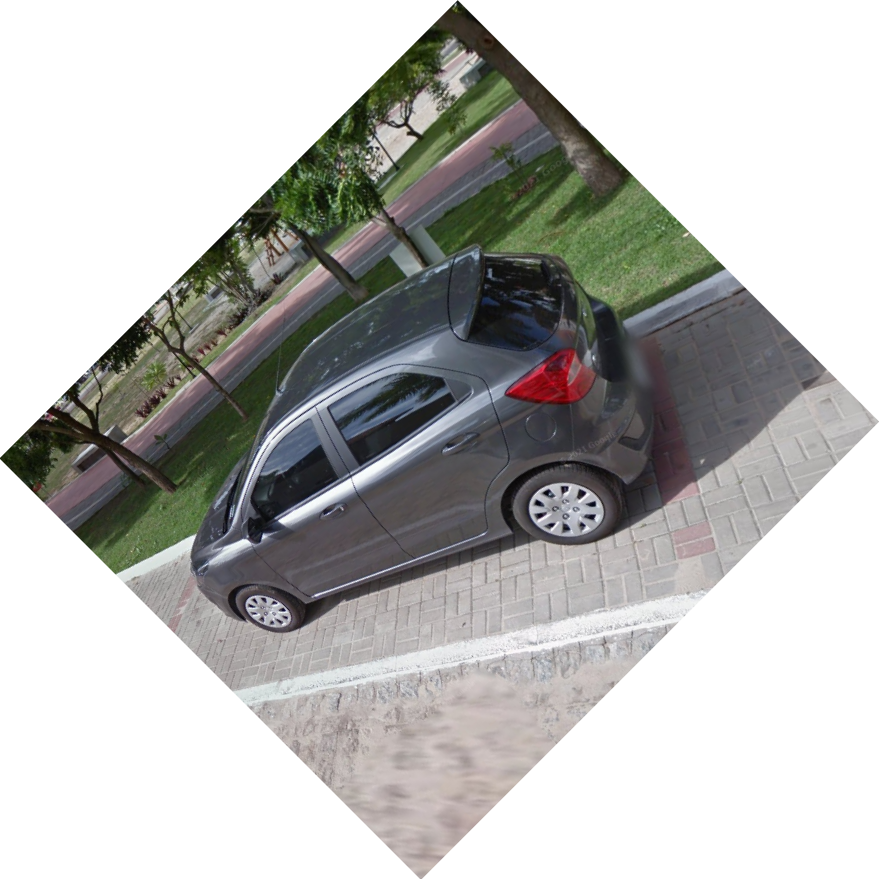car: (183, 240, 656, 631)
